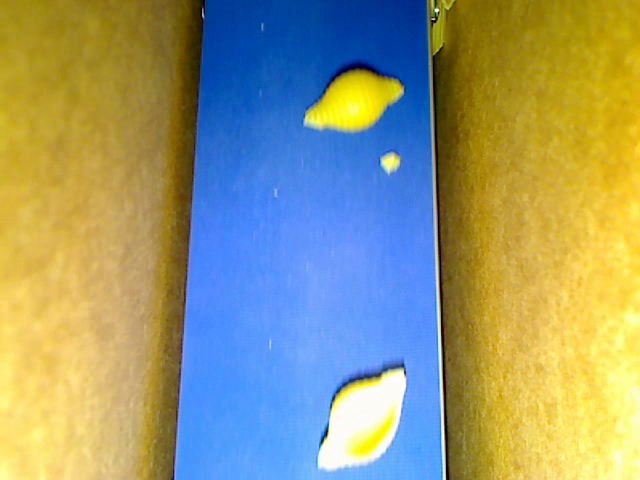penne: (427, 1, 446, 55), (443, 1, 454, 14)
shell: (317, 361, 409, 472), (301, 66, 405, 131)
